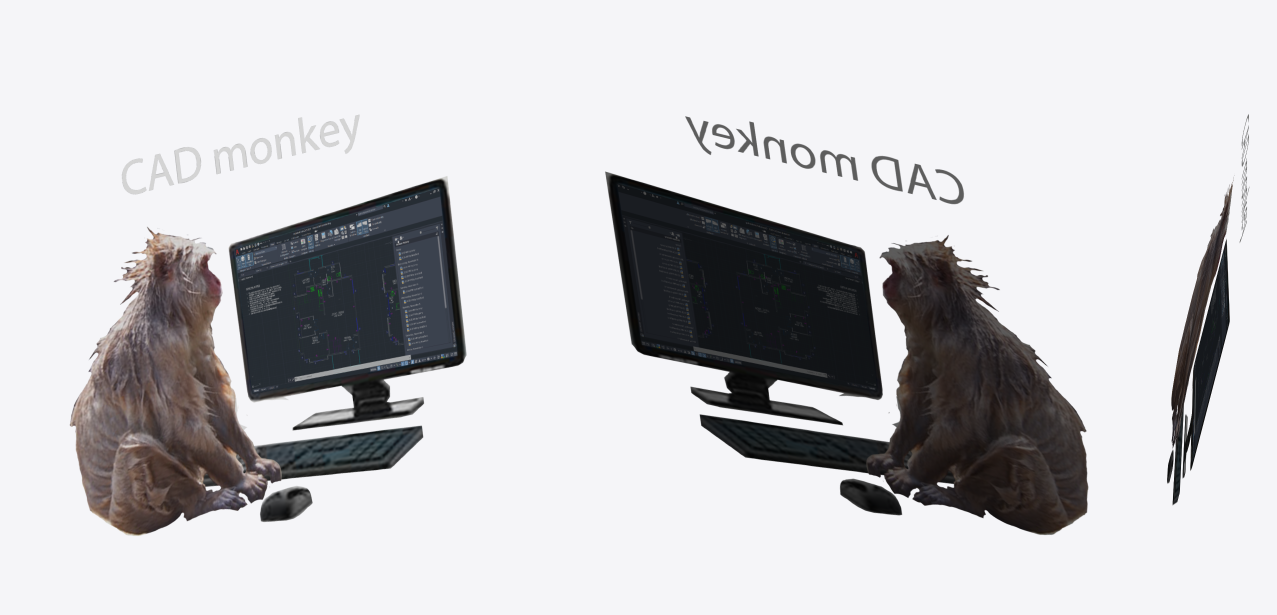
The model's file is CAD monkey.glb.
3 views of the same model, side by side, from view 1: azimuth 30°, elevation 25°; view 2: azimuth 150°, elevation 25°; view 3: azimuth 270°, elevation 25° (orthographic). The views are drawn at different scales.
Visible parts, largest first — view 1: CAD monkey; view 2: CAD monkey; view 3: CAD monkey.
Part boxes in pixels (x1=…): CAD monkey: x1=70, y1=114, x2=466, y2=535; CAD monkey: x1=605, y1=116, x2=1088, y2=534; CAD monkey: x1=1167, y1=114, x2=1249, y2=505.
Bounding box in the file's own units: 0.9198 × 0.8578 × 0.2008.
1 material, 1 textured.
